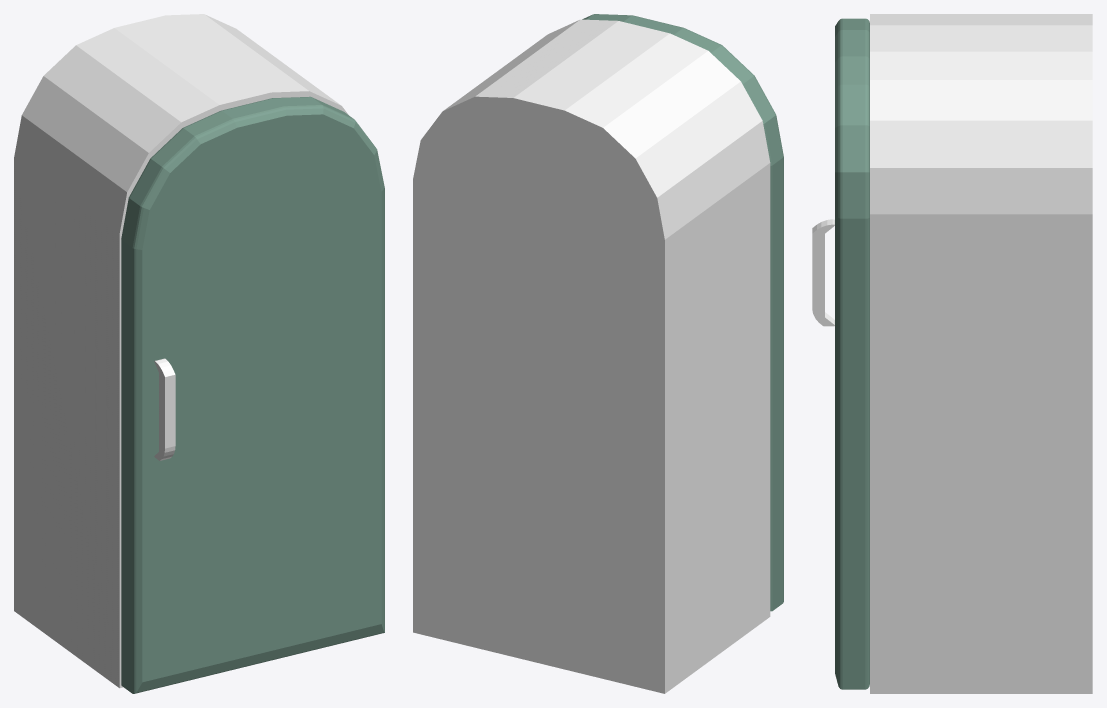
Rendered from Refrigerator_4.fbx.
3 views of the same model, side by side, from view 1: azimuth 30°, elevation 25°; view 2: azimuth 150°, elevation 25°; view 3: azimuth 270°, elevation 25° (orthographic). The views are drawn at different scales.
Visible parts, largest first — view 1: Refrigerator_4 Door, Refrigerator_4; view 2: Refrigerator_4, Refrigerator_4 Door; view 3: Refrigerator_4, Refrigerator_4 Door.
Boxes of the visible parts, x1,y1,x2,y2 form: Refrigerator_4 Door: (121, 96, 384, 693); Refrigerator_4: (14, 14, 348, 688); Refrigerator_4: (413, 19, 770, 693); Refrigerator_4 Door: (582, 14, 783, 611); Refrigerator_4: (870, 14, 1092, 693); Refrigerator_4 Door: (812, 18, 869, 689).
Size of the model in its own units: 1.02 by 2.15 by 0.9275.
